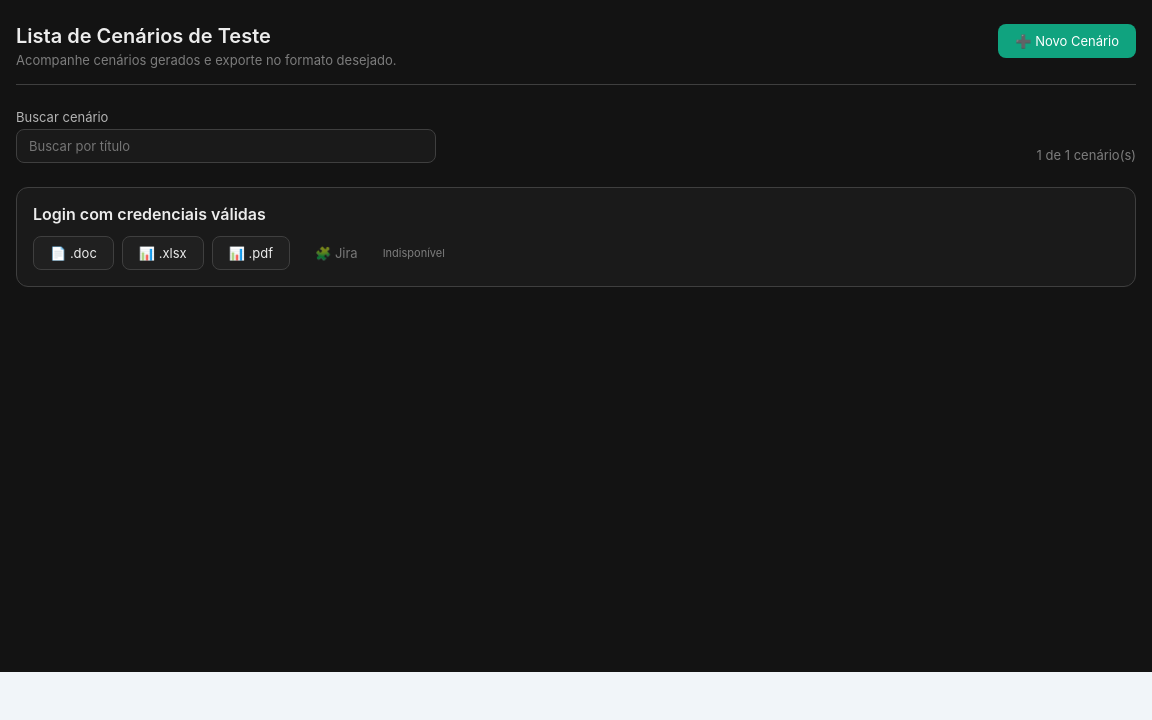
Test case: CenarioListComponent (caracterização — Fase 14.4) › expandir/recolher detalhes — acessibilidade (Fase 14.4/Etapa 2) › mostra a regra de negócio completa só depois de clicar no controle de expansão, e recolhe ao clicar de novo — aria-expanded acompanha
The width and height of the screenshot is (1152, 720).
Click the button with class "cenario-card__toggle" at point(149, 214), box [33,204,1119,224]
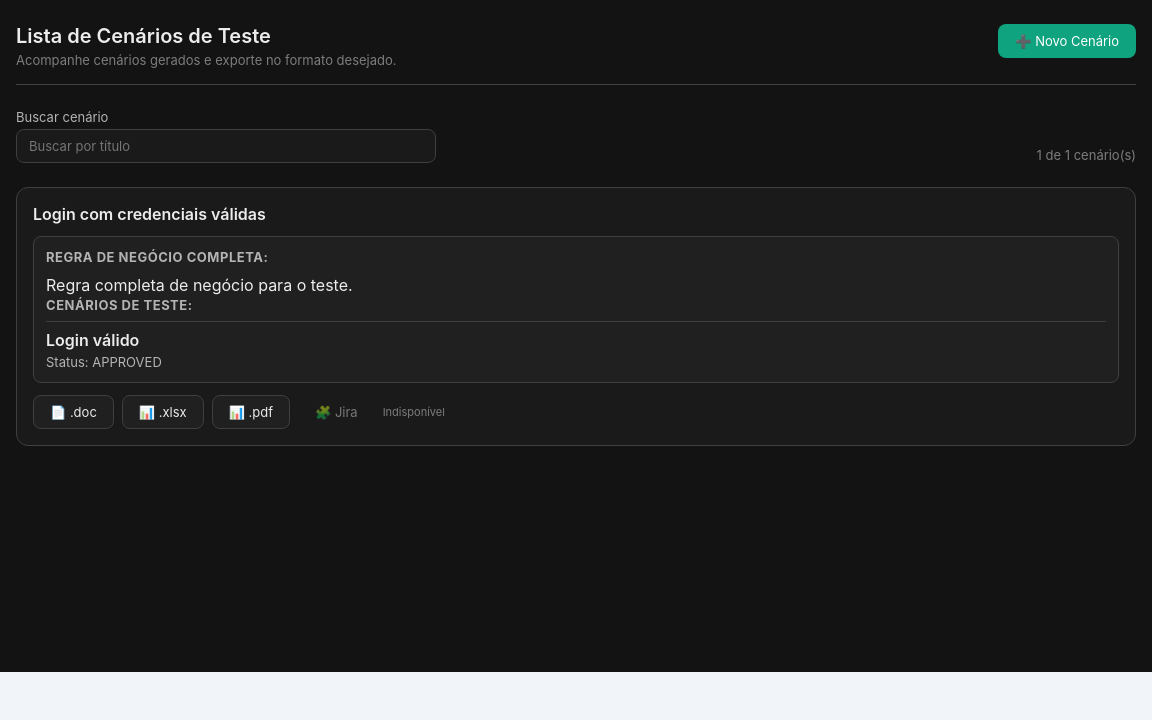
Result: the element with class "cenario-card__details" shows "Regra completa de negócio para o teste." at [46,275,353,295]
Click the button with class "cenario-card__toggle" at point(149, 214), box [33,204,1119,224]
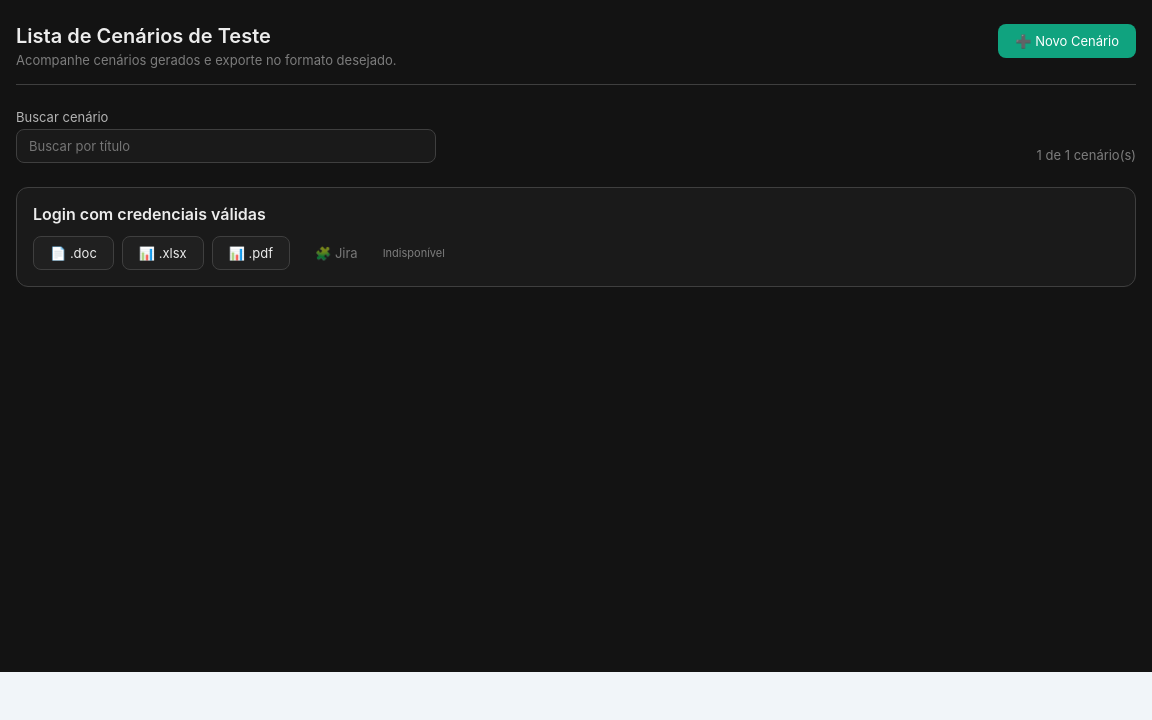
Result: the element with class "cenario-card__details" is gone
